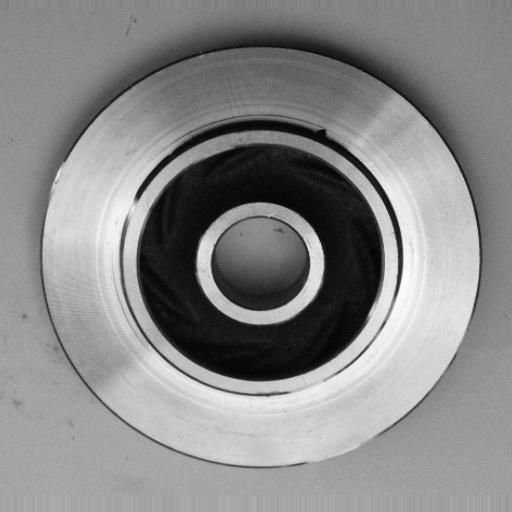crack: (308, 119, 333, 145)
unpolished_casting: (38, 39, 482, 474)
